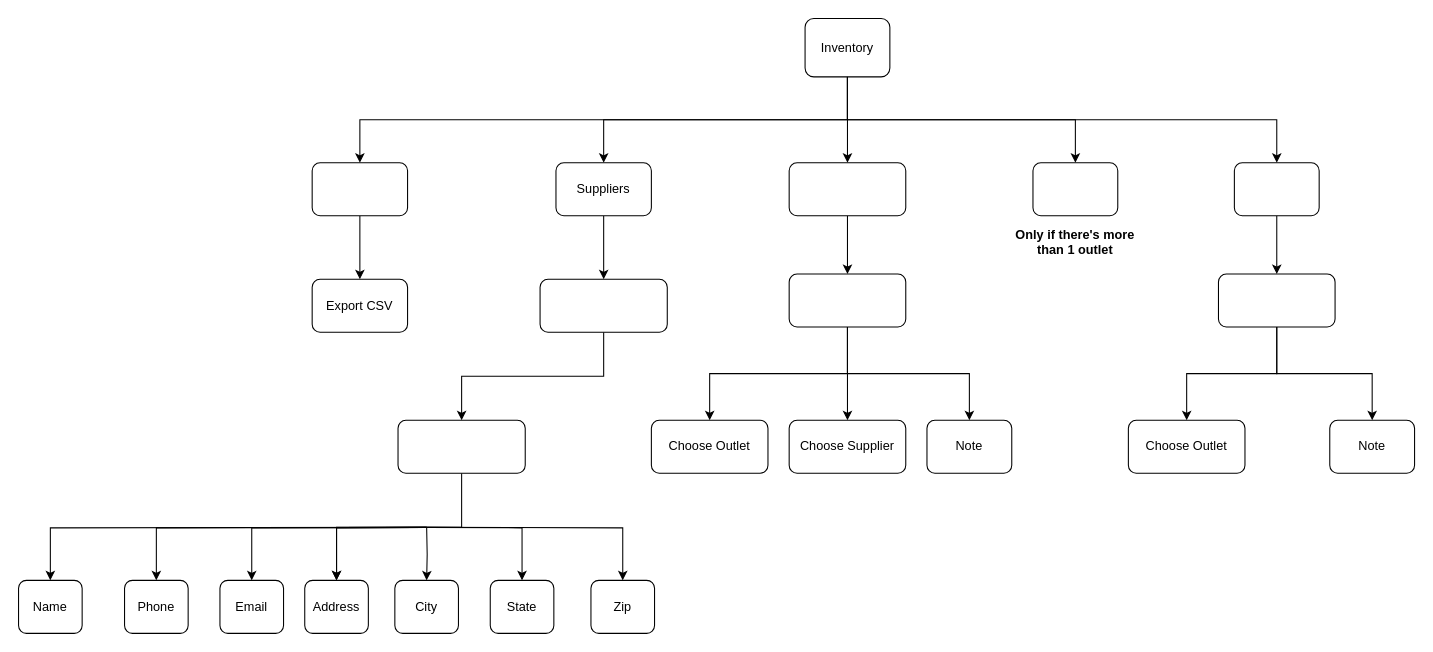
The diagram is 1433 pixels wide and 652 high, and some of its shapes have lost their labels. The centre of each missing label's shape, as x and y in pixels:
Adjustment: (1276,189)
Create Adjustment: (1276,300)
Create PO: (847,300)
Create Supplier: (603,305)
Purchase Order (PO): (847,189)
Summary: (359,189)
Supplier Details: (461,446)
Transfer: (1075,189)
